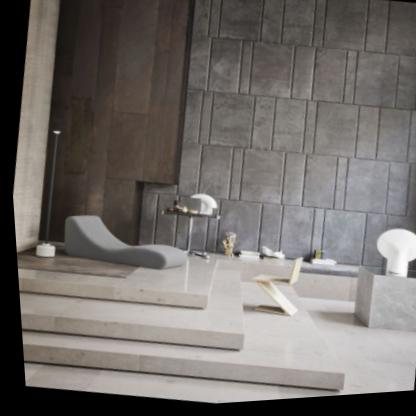Wall Panel: (18, 0, 416, 305)
